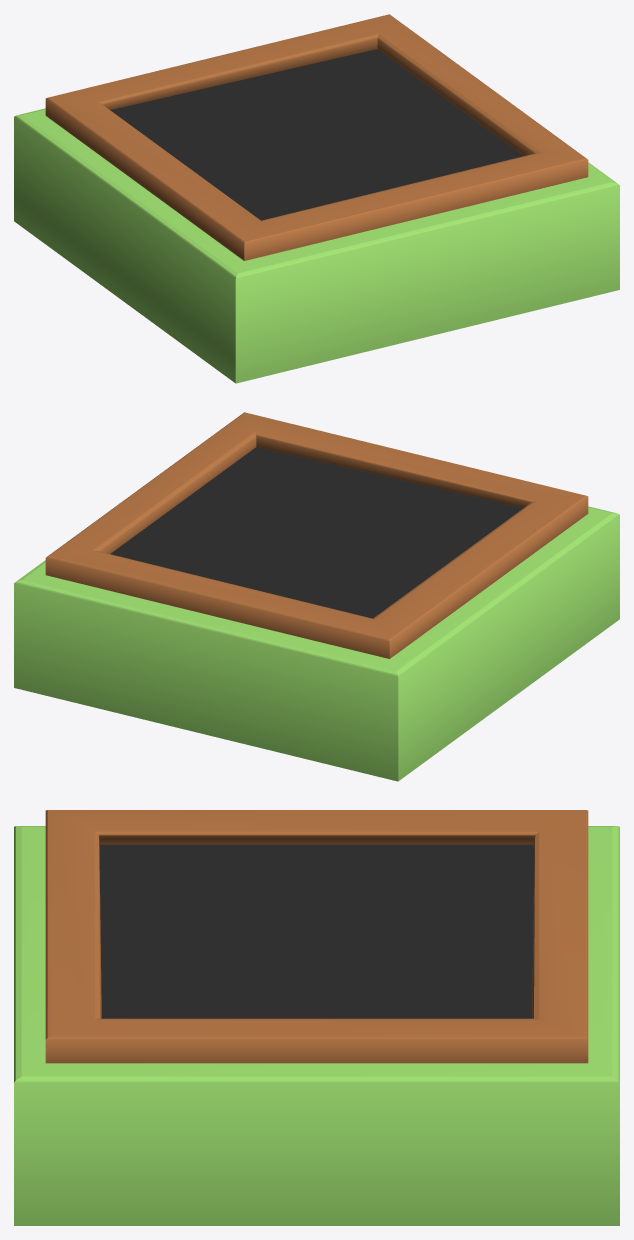
Rendered from ljt.fbx.
3 renders of one model, top to bottom at view 1: azimuth 30°, elevation 25°; view 2: azimuth 150°, elevation 25°; view 3: azimuth 270°, elevation 25°, orthographic. The views are drawn at different scales.
Parts seen in each view (by area): view 1: 立方体; view 2: 立方体; view 3: 立方体.
Part boxes in pixels (bbox=[...]): 立方体: bbox=[14, 14, 619, 383]; 立方体: bbox=[14, 412, 619, 781]; 立方体: bbox=[14, 810, 619, 1225].
Bounding box in the file's own units: 200 × 63.6 × 200.
